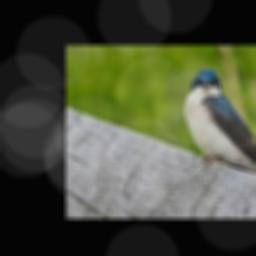Swallow: (184, 69, 256, 181)
